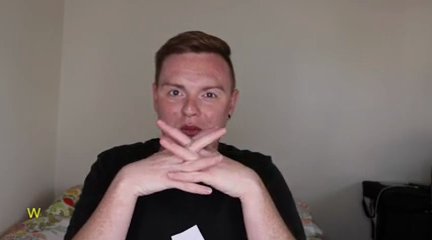W: (121, 118, 258, 205)
